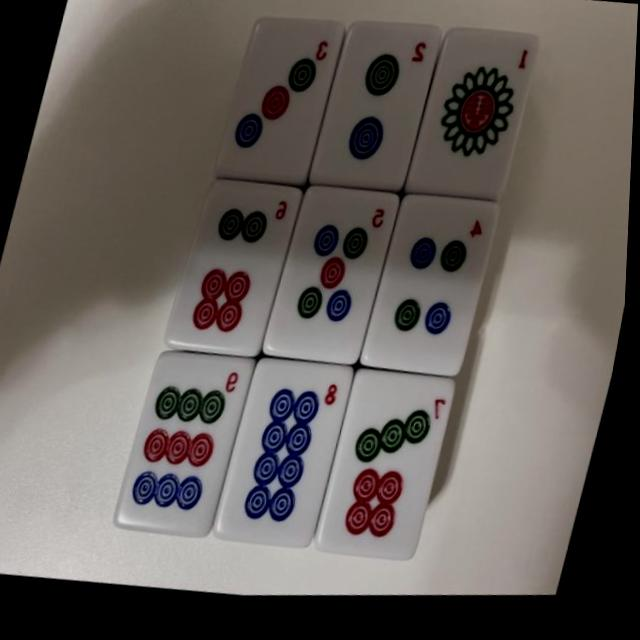sd1: (399, 27, 542, 226)
sd2: (303, 15, 444, 213)
sd3: (210, 12, 345, 203)
sd4: (355, 194, 503, 399)
sd5: (257, 182, 402, 387)
sd6: (164, 174, 303, 372)
sd7: (309, 369, 460, 582)
sd8: (209, 356, 357, 568)
sd9: (109, 342, 257, 554)
